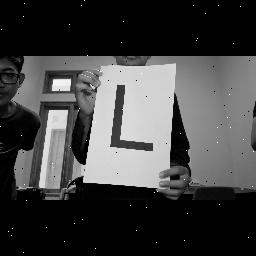l: (102, 78, 156, 160)
